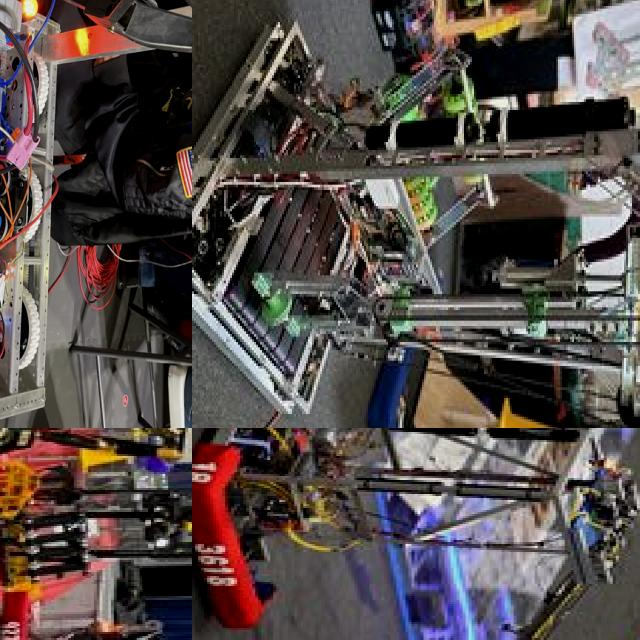FRC-Robots: (192, 2, 640, 426), (192, 428, 640, 640), (0, 0, 141, 428), (0, 466, 192, 616), (0, 428, 192, 500), (5, 598, 153, 640)
